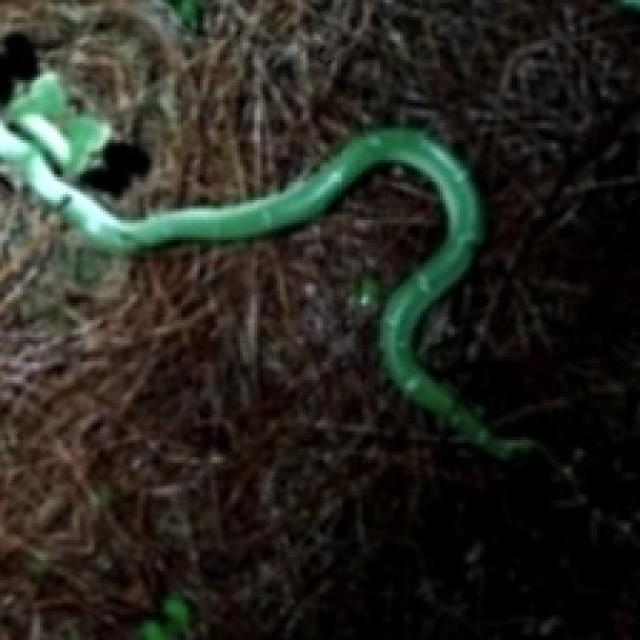north ph temple pitviper: (0, 69, 531, 457)
